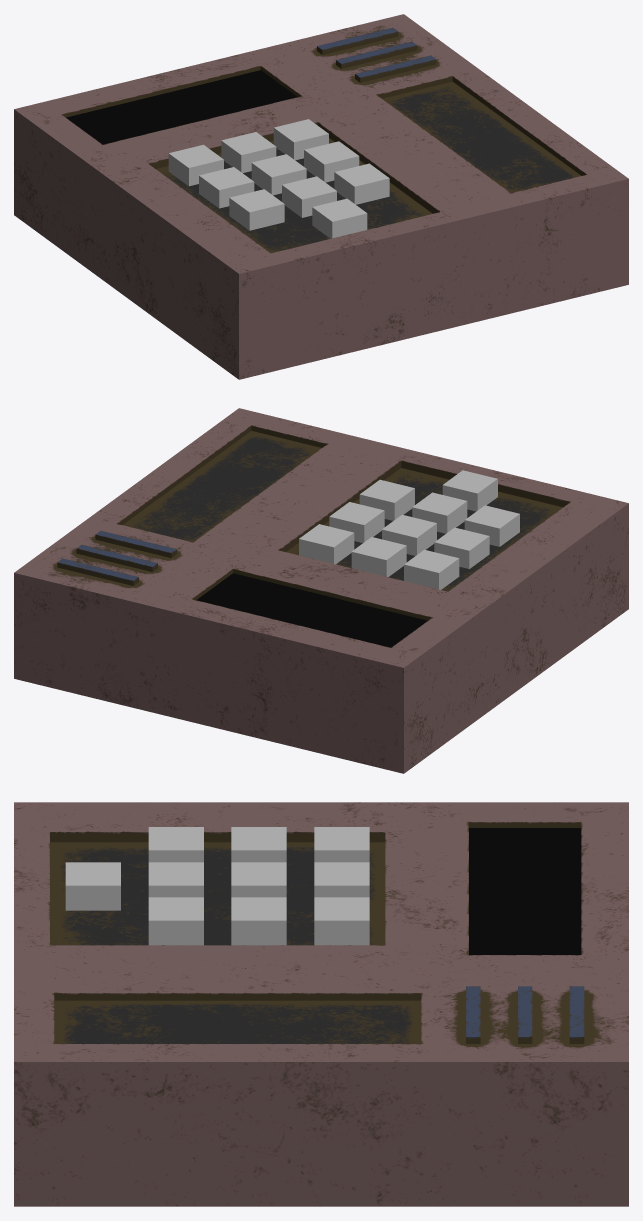
The model's file is Passcode Component.fbx.
The picture shows the model from 3 angles, top to bottom: view 1: azimuth 30°, elevation 25°; view 2: azimuth 150°, elevation 25°; view 3: azimuth 270°, elevation 25°; orthographic projection. The views are drawn at different scales.
Visible parts, largest first — view 1: Plane.005, Cube.014; view 2: Plane.005, Cube.014; view 3: Plane.005, Cube.014.
Part boxes in pixels (x1,y1,x2,y2): Plane.005: (14, 14, 628, 379); Cube.014: (168, 119, 389, 238); Plane.005: (14, 408, 628, 773); Cube.014: (299, 470, 519, 589); Plane.005: (14, 802, 628, 1206); Cube.014: (65, 827, 369, 945).
Size of the model in its own units: 276 by 79.13 by 276.
2 materials, 1 textured.
